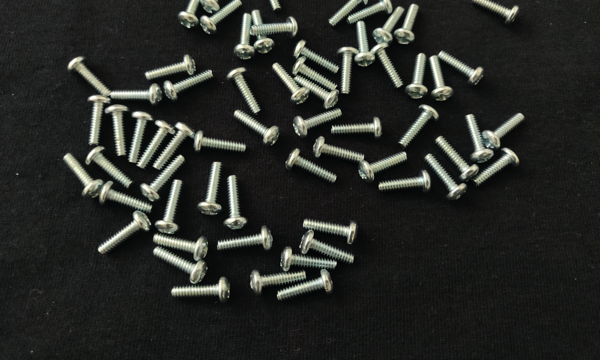shortscrew: (96, 211, 151, 256), (152, 247, 209, 286), (140, 155, 186, 202), (424, 153, 468, 202), (85, 147, 135, 189), (153, 122, 197, 169), (436, 136, 480, 183), (299, 230, 356, 266), (285, 148, 338, 186), (67, 56, 114, 98), (62, 153, 104, 200), (397, 105, 440, 150), (473, 148, 521, 187), (437, 50, 486, 88), (137, 120, 175, 169), (233, 109, 280, 147), (277, 270, 332, 302), (482, 112, 526, 151), (164, 68, 214, 102), (100, 182, 153, 214), (249, 268, 307, 297), (217, 225, 273, 255), (171, 277, 231, 305), (371, 43, 405, 92), (358, 151, 408, 184), (272, 62, 310, 105), (294, 76, 340, 111), (153, 234, 209, 262), (293, 108, 342, 140), (227, 68, 261, 114), (291, 56, 337, 90), (293, 40, 339, 74), (199, 0, 242, 36), (156, 180, 184, 235), (303, 219, 358, 246), (197, 163, 224, 217), (144, 55, 196, 82), (127, 111, 154, 163), (224, 175, 249, 231), (281, 247, 337, 272), (312, 136, 365, 162), (466, 115, 494, 164), (378, 169, 432, 194), (194, 130, 247, 155), (373, 6, 405, 47), (471, 0, 521, 26), (86, 95, 111, 146), (430, 55, 456, 104), (346, 0, 393, 27), (111, 84, 163, 108), (393, 3, 422, 46), (105, 105, 129, 156), (332, 116, 383, 140), (328, 0, 369, 28), (404, 53, 428, 100), (252, 10, 276, 57), (234, 13, 256, 61), (354, 21, 376, 68), (251, 17, 299, 38), (178, 0, 207, 30), (201, 0, 236, 13), (255, 0, 283, 13)
